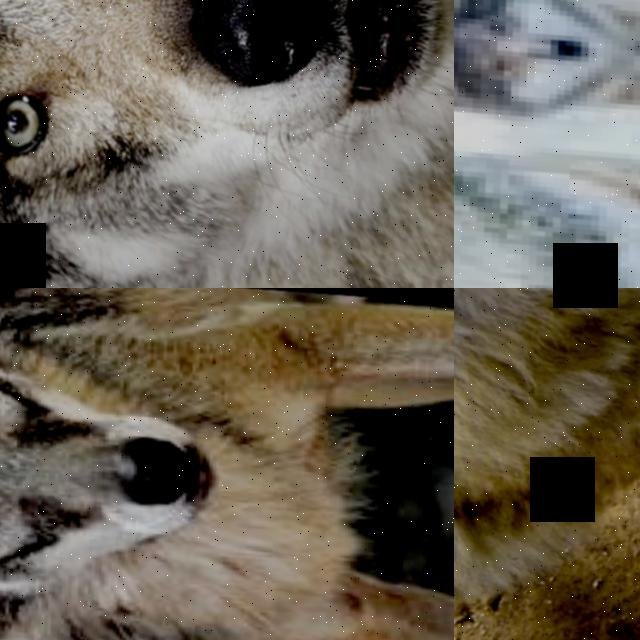wolf: (0, 288, 454, 640), (0, 0, 454, 288), (454, 288, 640, 640), (454, 99, 640, 288), (454, 0, 640, 122)
